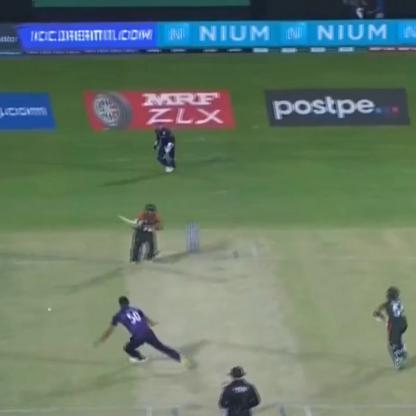ball: (42, 305, 55, 313)
bat: (110, 211, 149, 229)
pitch: (119, 237, 306, 411)
